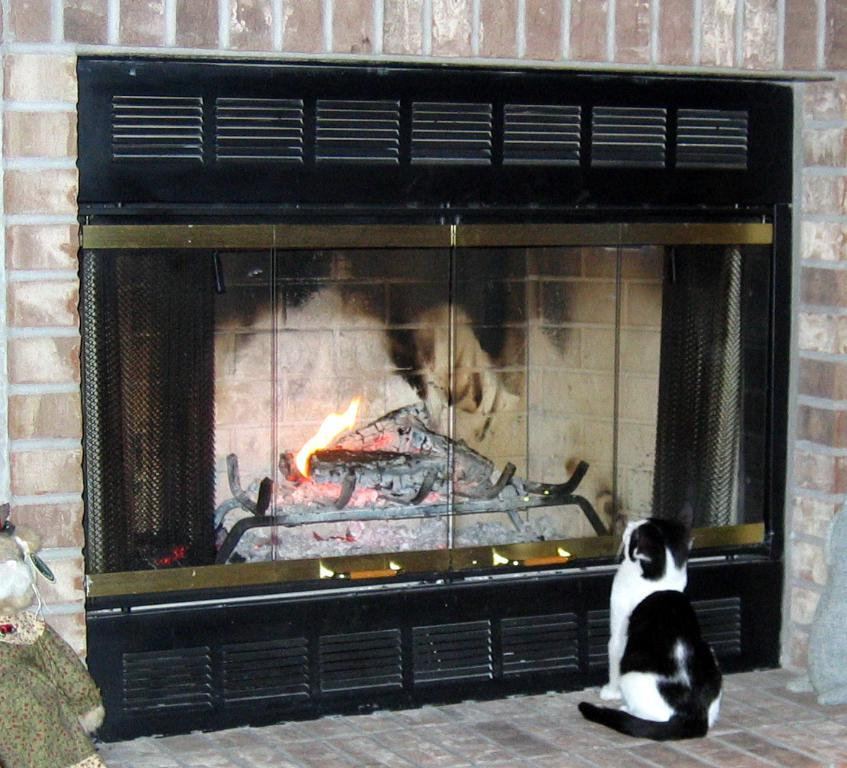fire: (281, 379, 376, 480)
